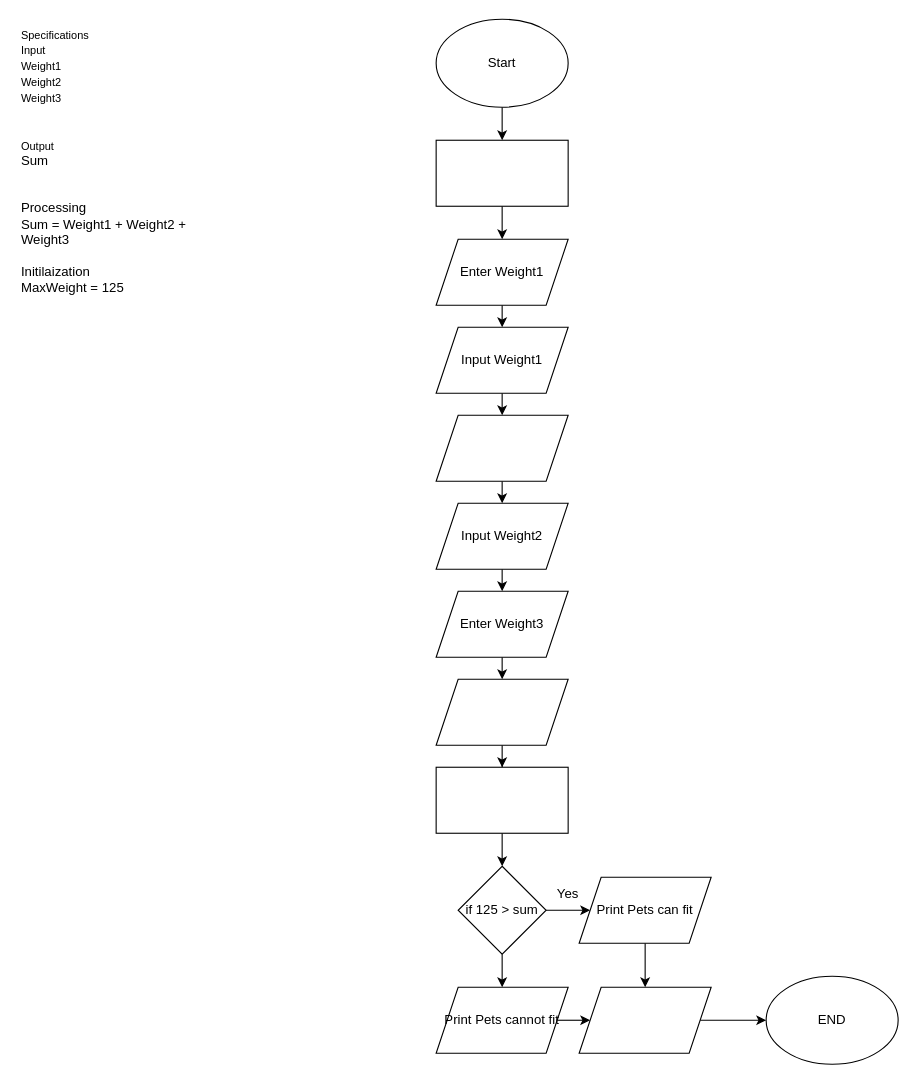
The diagram is 917 pixels wide and 1084 high, and some of its shapes have lost their labels. Here are the shapes that lost their labels. From the top down, the box of each, then its label:
(435, 139, 568, 206): Max Weight = 125
(435, 414, 568, 481): Enter Weight2
(435, 678, 568, 745): Input Weight3
(435, 766, 568, 833): Sum = Weight1 + Weigh2 + Weight3
(578, 986, 711, 1053): Print Sum
